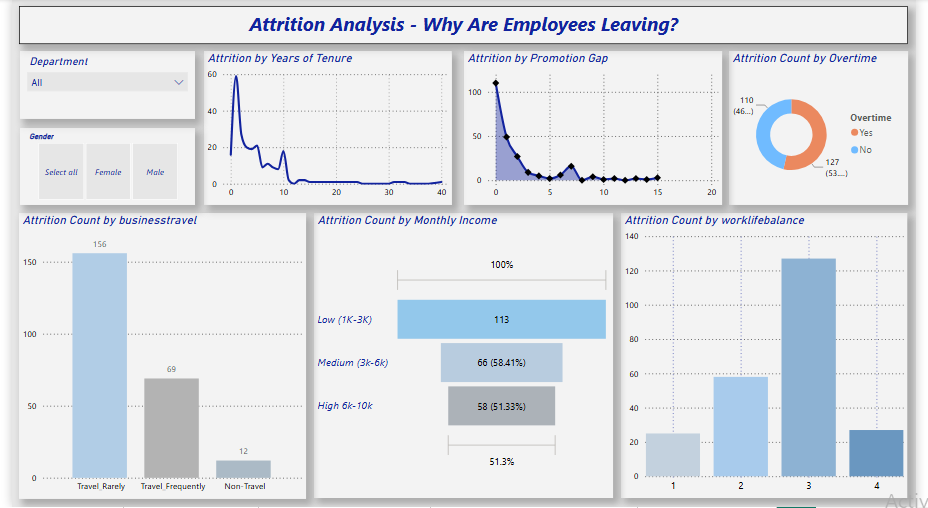

Layout of this report page (visuals, bound fields, positions):
{"tool":"powerbi","page":{"name":"Attrition Analysis","canvas":[1280,720],"ordinal":1},"visuals":[{"type":"textbox","box":[9.9,9.9,1260,53.9],"z":0},{"type":"donutChart","title":"Attrition Count by Overtime","fields":{"Category":["hr_analytics_clean.overtime"],"Y":["hr_analytics_clean.Attrition Count"]},"box":[1016.2,73.7,253.7,218.3],"z":1000},{"type":"clusteredColumnChart","fields":{"Y":["hr_analytics_clean.Attrition Count"],"Category":["hr_analytics_clean.worklifebalance"]},"box":[863.8,303.9,405.7,404.2],"z":2000},{"type":"funnel","title":"Attrition Count by Monthly Income","fields":{"Category":["hr_analytics_clean.Income Group"],"Y":["hr_analytics_clean.Attrition Count"]},"box":[428.2,303.9,423.7,404.2],"z":3000},{"type":"lineChart","title":"Attrition by Years of Tenure","fields":{"Category":["hr_analytics_clean.yearsatcompany"],"Y":["hr_analytics_clean.Attrition Count"]},"box":[272.1,73.7,351.5,218.3],"z":4000},{"type":"clusteredColumnChart","fields":{"Y":["hr_analytics_clean.Attrition Count"],"Category":["hr_analytics_clean.businesstravel"]},"box":[9.9,303.3,406.8,405.4],"z":5000},{"type":"areaChart","title":"Attrition by Promotion Gap","fields":{"Category":["hr_analytics_clean.yearssincelastpromotion"],"Y":["hr_analytics_clean.Attrition Count"]},"box":[640.6,73.7,365.7,218.3],"z":6000},{"type":"slicer","fields":{"Values":["hr_analytics_clean.department"]},"box":[11.3,73.7,248,96.4],"z":6001},{"type":"slicer","fields":{"Values":["hr_analytics_clean.gender"]},"box":[11.3,182.8,248,109.1],"z":6002}]}

Visuals, with their boxes in screenshot pixels (x1, y1, x2, y2), scaled from the page's 1280x720 canvas onto the 928x508 screenshot:
textbox: 7,7,921,45
"Attrition Count by Overtime" donutChart: 737,52,921,206
clusteredColumnChart - hr_analytics_clean.Attrition Count x hr_analytics_clean.worklifebalance: 626,214,920,500
"Attrition Count by Monthly Income" funnel: 310,214,618,500
"Attrition by Years of Tenure" lineChart: 197,52,452,206
clusteredColumnChart - hr_analytics_clean.Attrition Count x hr_analytics_clean.businesstravel: 7,214,302,500
"Attrition by Promotion Gap" areaChart: 464,52,730,206
slicer - hr_analytics_clean.department: 8,52,188,120
slicer - hr_analytics_clean.gender: 8,129,188,206
